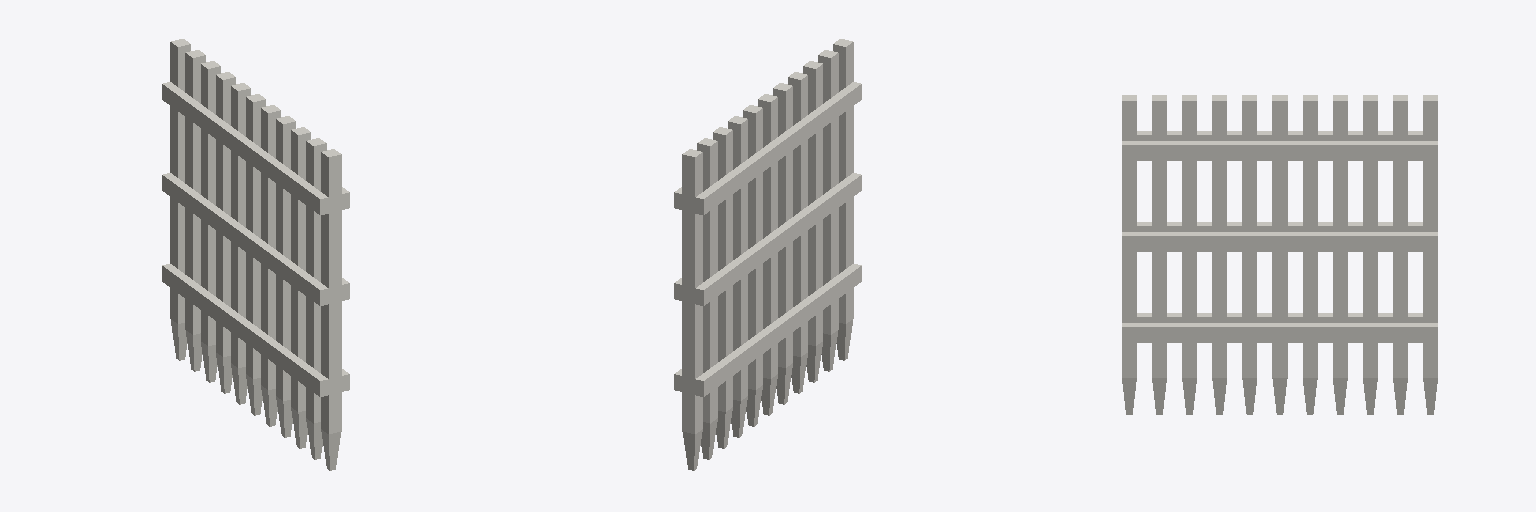
Rendered from metalGate.obj.
The picture shows the model from 3 angles: view 1: azimuth 30°, elevation 25°; view 2: azimuth 150°, elevation 25°; view 3: azimuth 270°, elevation 25°; orthographic projection.
Parts seen in each view (by area): view 1: metalGate; view 2: metalGate; view 3: metalGate.
Part boxes in pixels (left/top/right/bottom): metalGate: left=162, top=39, right=349, bottom=470; metalGate: left=674, top=39, right=861, bottom=470; metalGate: left=1122, top=95, right=1437, bottom=414.
Bounding box in the file's own units: 0.7144 × 7.3 × 6.62.